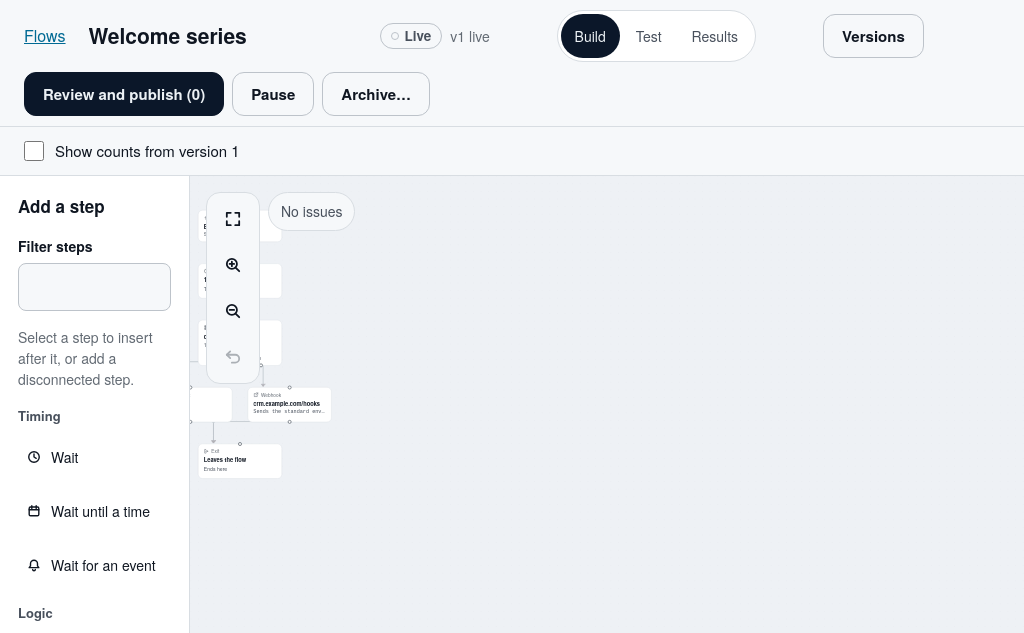
the entries per day on the flow results › draws the series with a label worked out from the data, the change on the days before, and a table
This screenshot has width=1024, height=633.
Click the link "Results" at (715, 36), box x1=692 y1=26 x2=738 y2=46
(page scrolled)
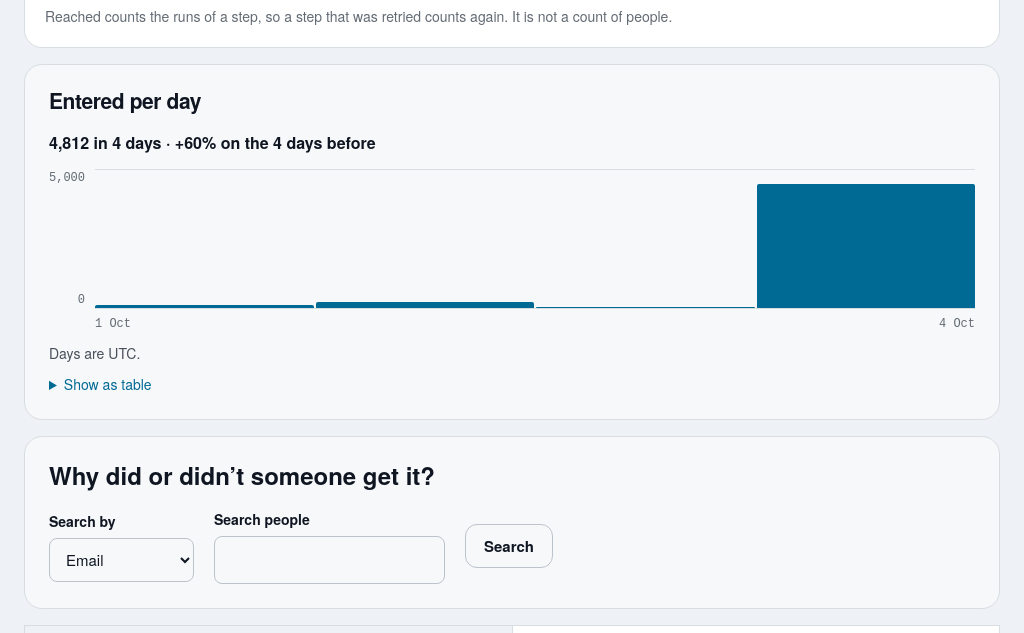
Expected: the picture named "People entering per day over the last 4 days, between 0 and 4,488 a day, 4,812 in total" is shown, x1=49 y1=169 x2=975 y2=333
Expected: the text "4,812 in 4 days · +60% on the 4 days before" is shown, x1=49 y1=131 x2=376 y2=154
Expected: the text "Days are UTC." is shown, x1=49 y1=343 x2=140 y2=363
Click the heading "Show as table" at (108, 384), box x1=64 y1=374 x2=152 y2=394
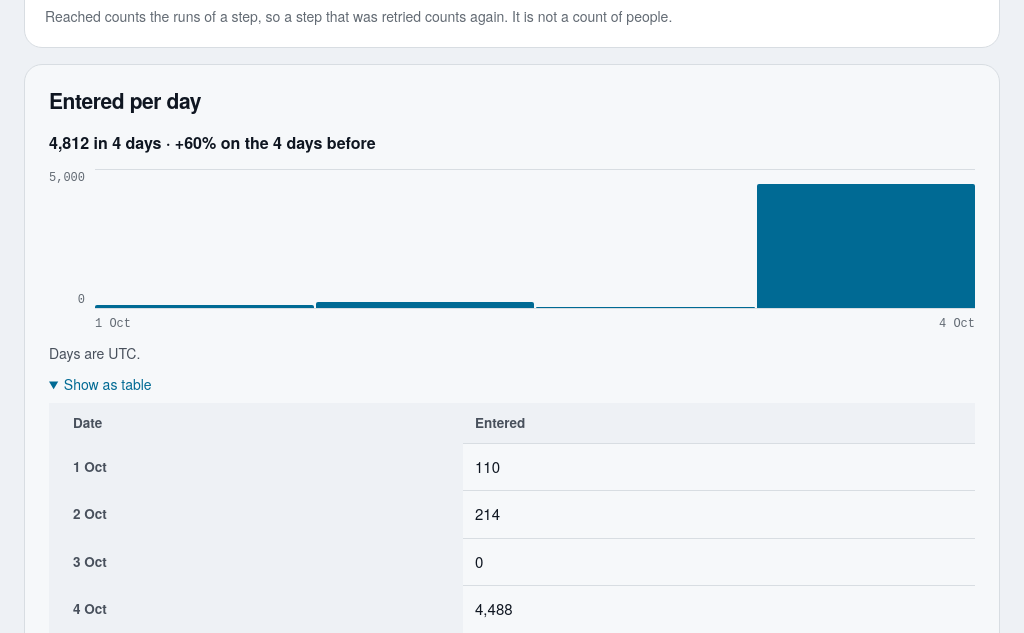
Expected: the row "2 Oct 214" is shown, x1=49 y1=490 x2=975 y2=538
